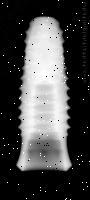Cowellmedi: (16, 15, 72, 171)
